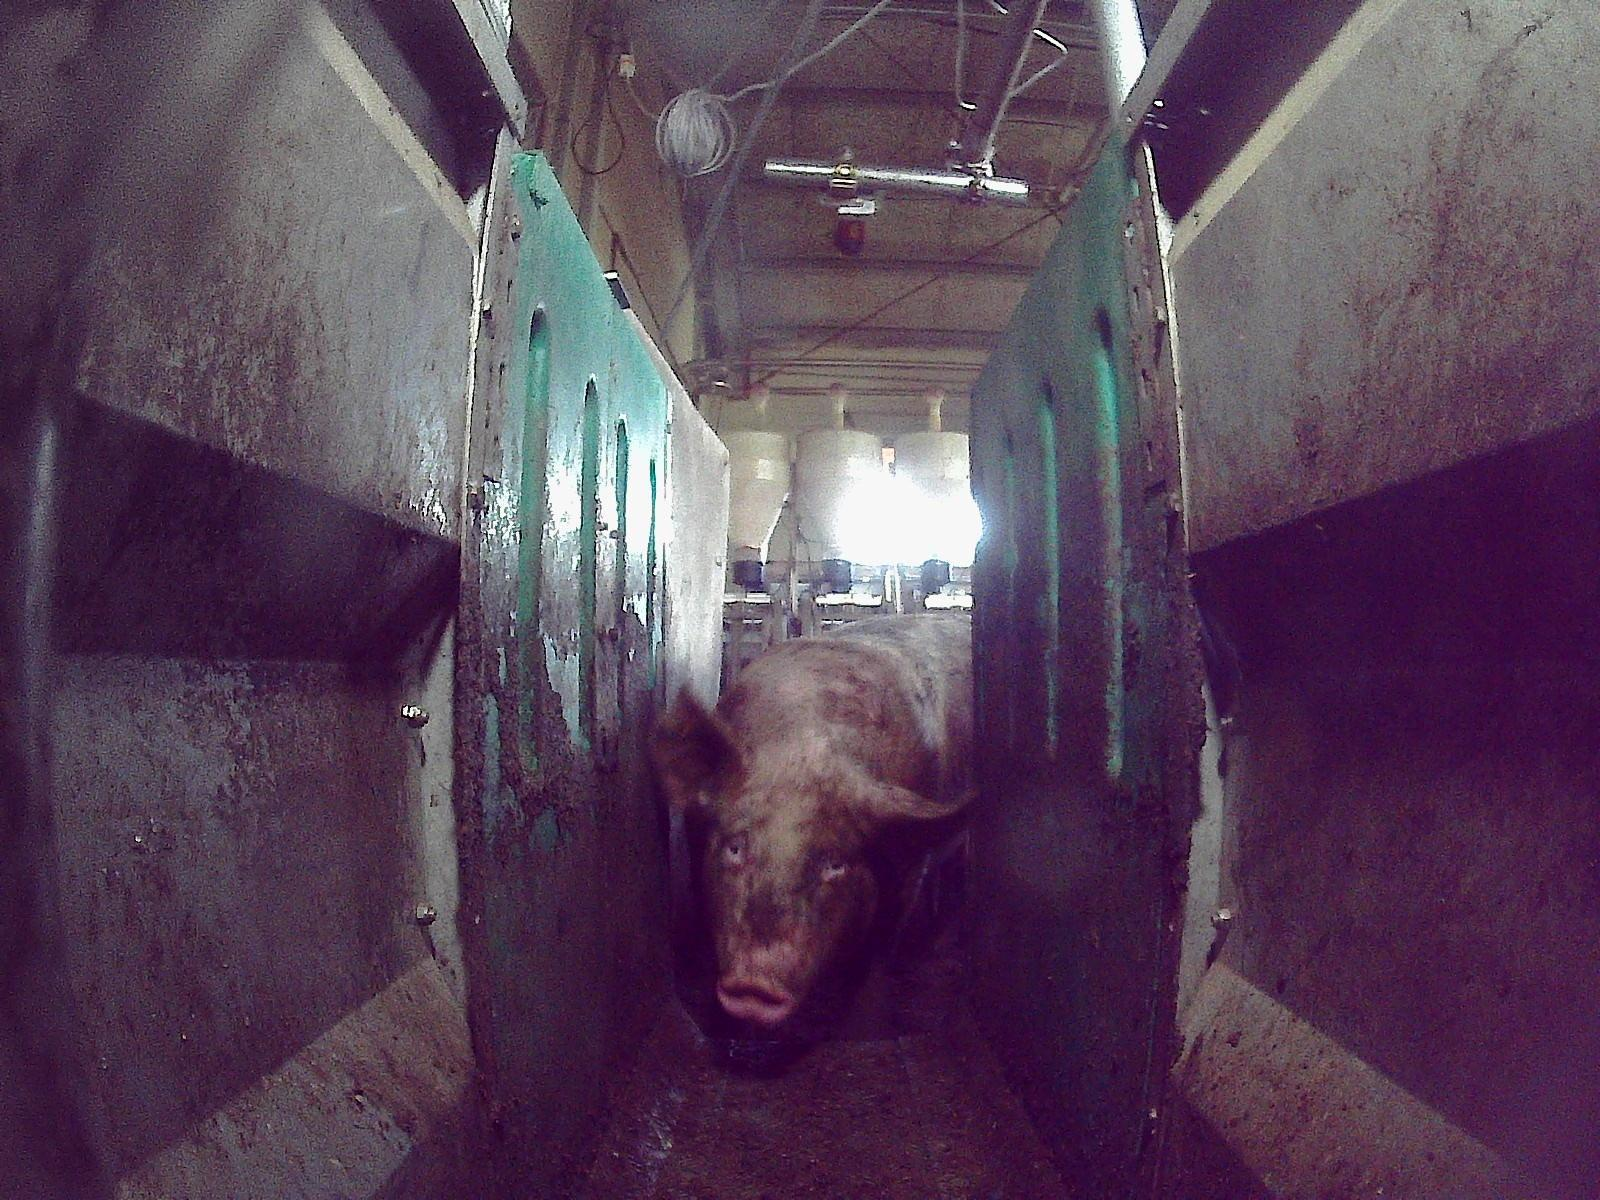Face: (701, 770, 867, 1020)
